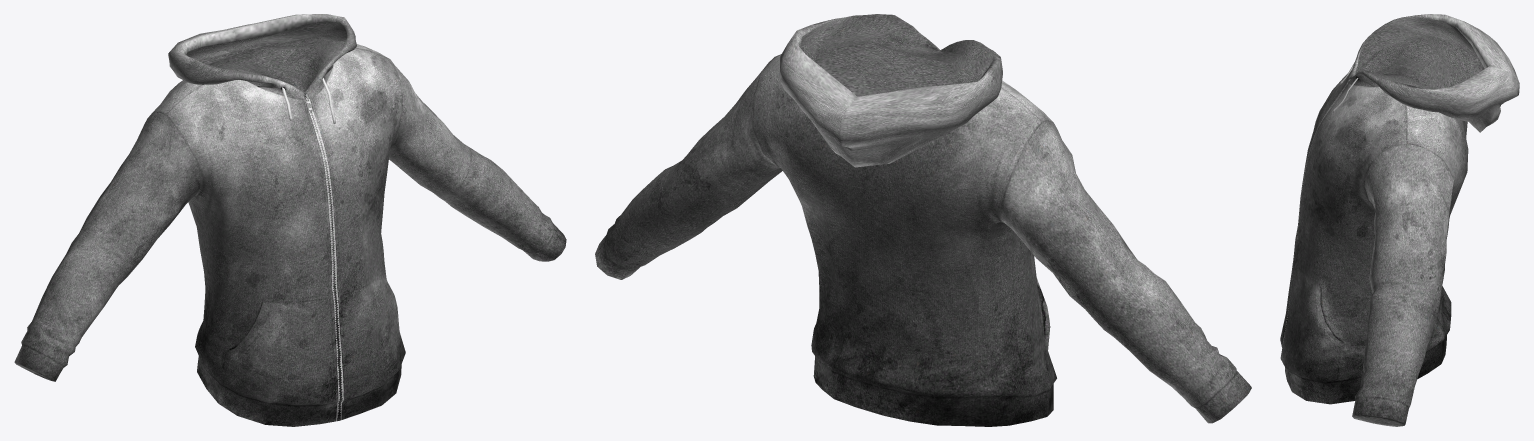
File: SurvivorMale_Chest_Hoodie_Down_Tintable_LOD0.glb
3 renders of one model, left to right at view 1: azimuth 30°, elevation 25°; view 2: azimuth 150°, elevation 25°; view 3: azimuth 270°, elevation 25°, orthographic. The views are drawn at different scales.
Parts seen in each view (by area): view 1: Hoodie; view 2: Hoodie; view 3: Hoodie.
Part boxes in pixels (bbox=[...]): Hoodie: bbox=[14, 14, 566, 426]; Hoodie: bbox=[595, 14, 1251, 426]; Hoodie: bbox=[1280, 14, 1519, 426].
Bounding box in the file's own units: 1.13 × 0.6561 × 0.444.
1 material, 1 textured.
